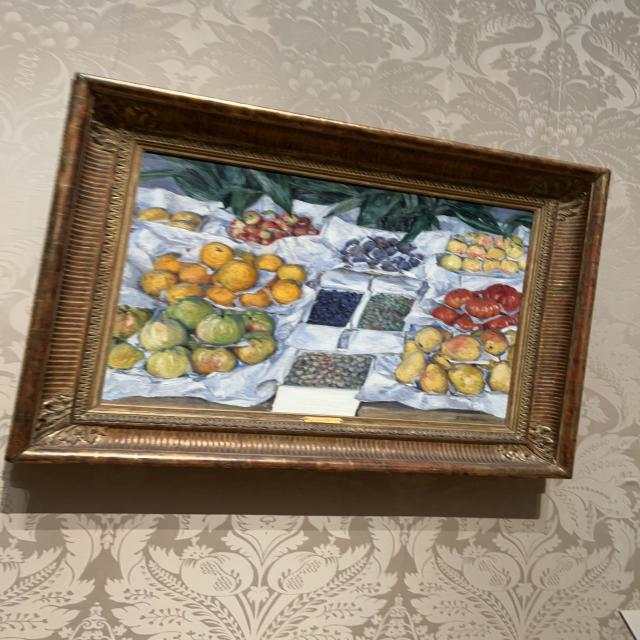fruits: (107, 156, 526, 420)
